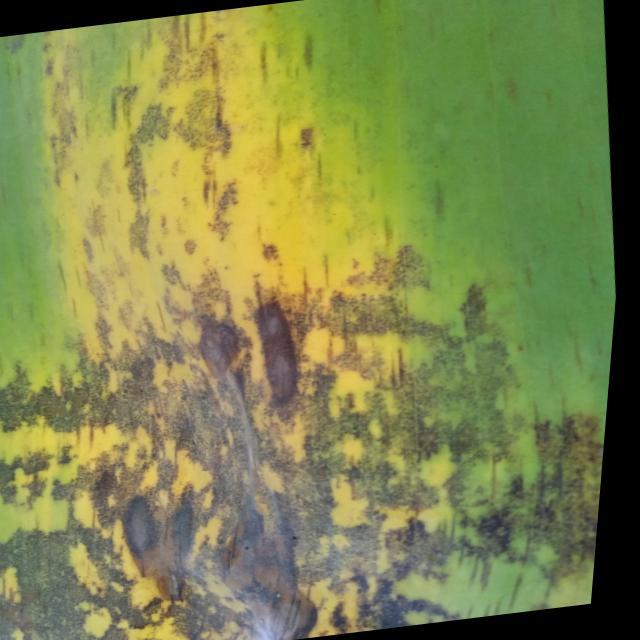Early_rust: (10, 5, 552, 640)
